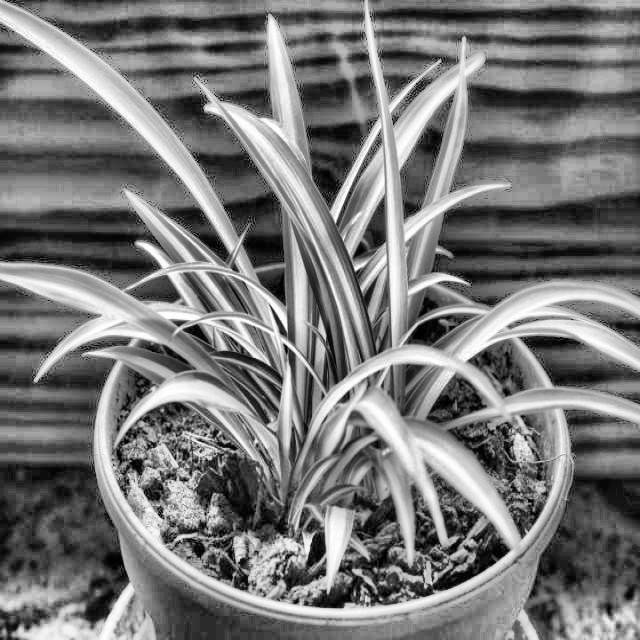plants: (1, 0, 640, 639), (95, 100, 550, 492)
